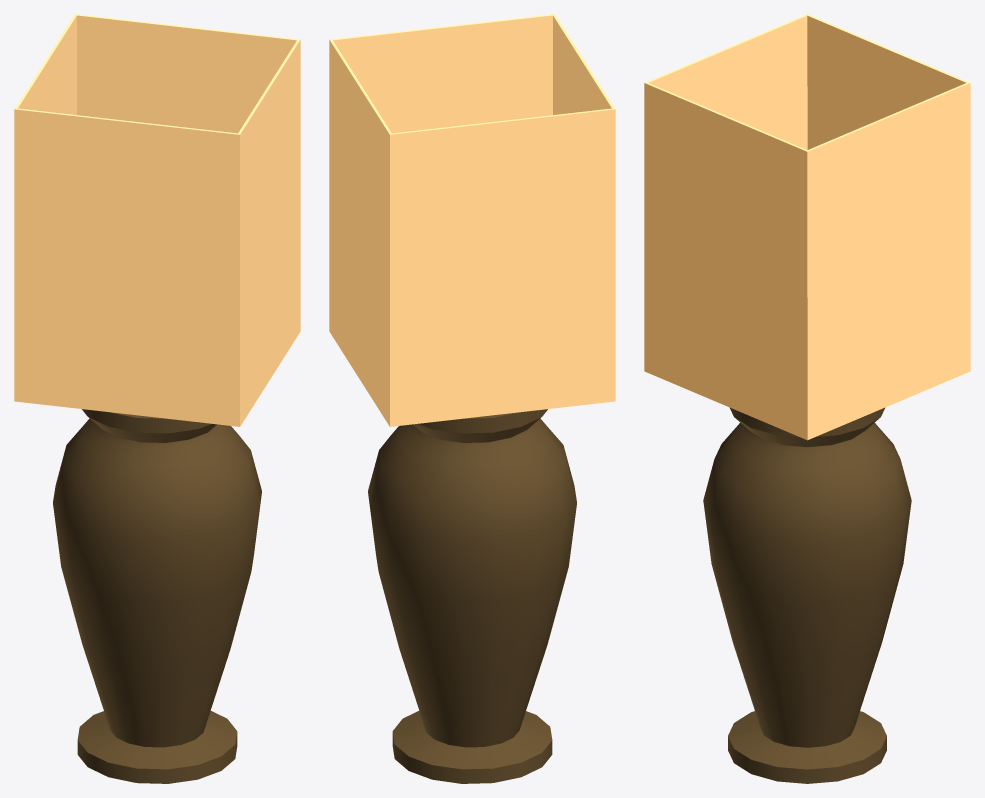
File: Table_Lamp_TallBase_SquareShade.fbx
The picture shows the model from 3 angles, left to right: view 1: azimuth 30°, elevation 25°; view 2: azimuth 150°, elevation 25°; view 3: azimuth 270°, elevation 25°; orthographic projection.
Parts seen in each view (by area): view 1: Table_Lamp_TallBase_SquareShade; view 2: Table_Lamp_TallBase_SquareShade; view 3: Table_Lamp_TallBase_SquareShade.
Boxes of the visible parts, x1,y1,x2,y2 form: Table_Lamp_TallBase_SquareShade: [14, 14, 300, 783]; Table_Lamp_TallBase_SquareShade: [329, 14, 615, 783]; Table_Lamp_TallBase_SquareShade: [644, 14, 970, 783].
Size of the model in its own units: 30.75 by 69.41 by 30.75.
